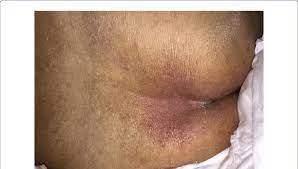Stage1: (94, 68, 220, 146)
